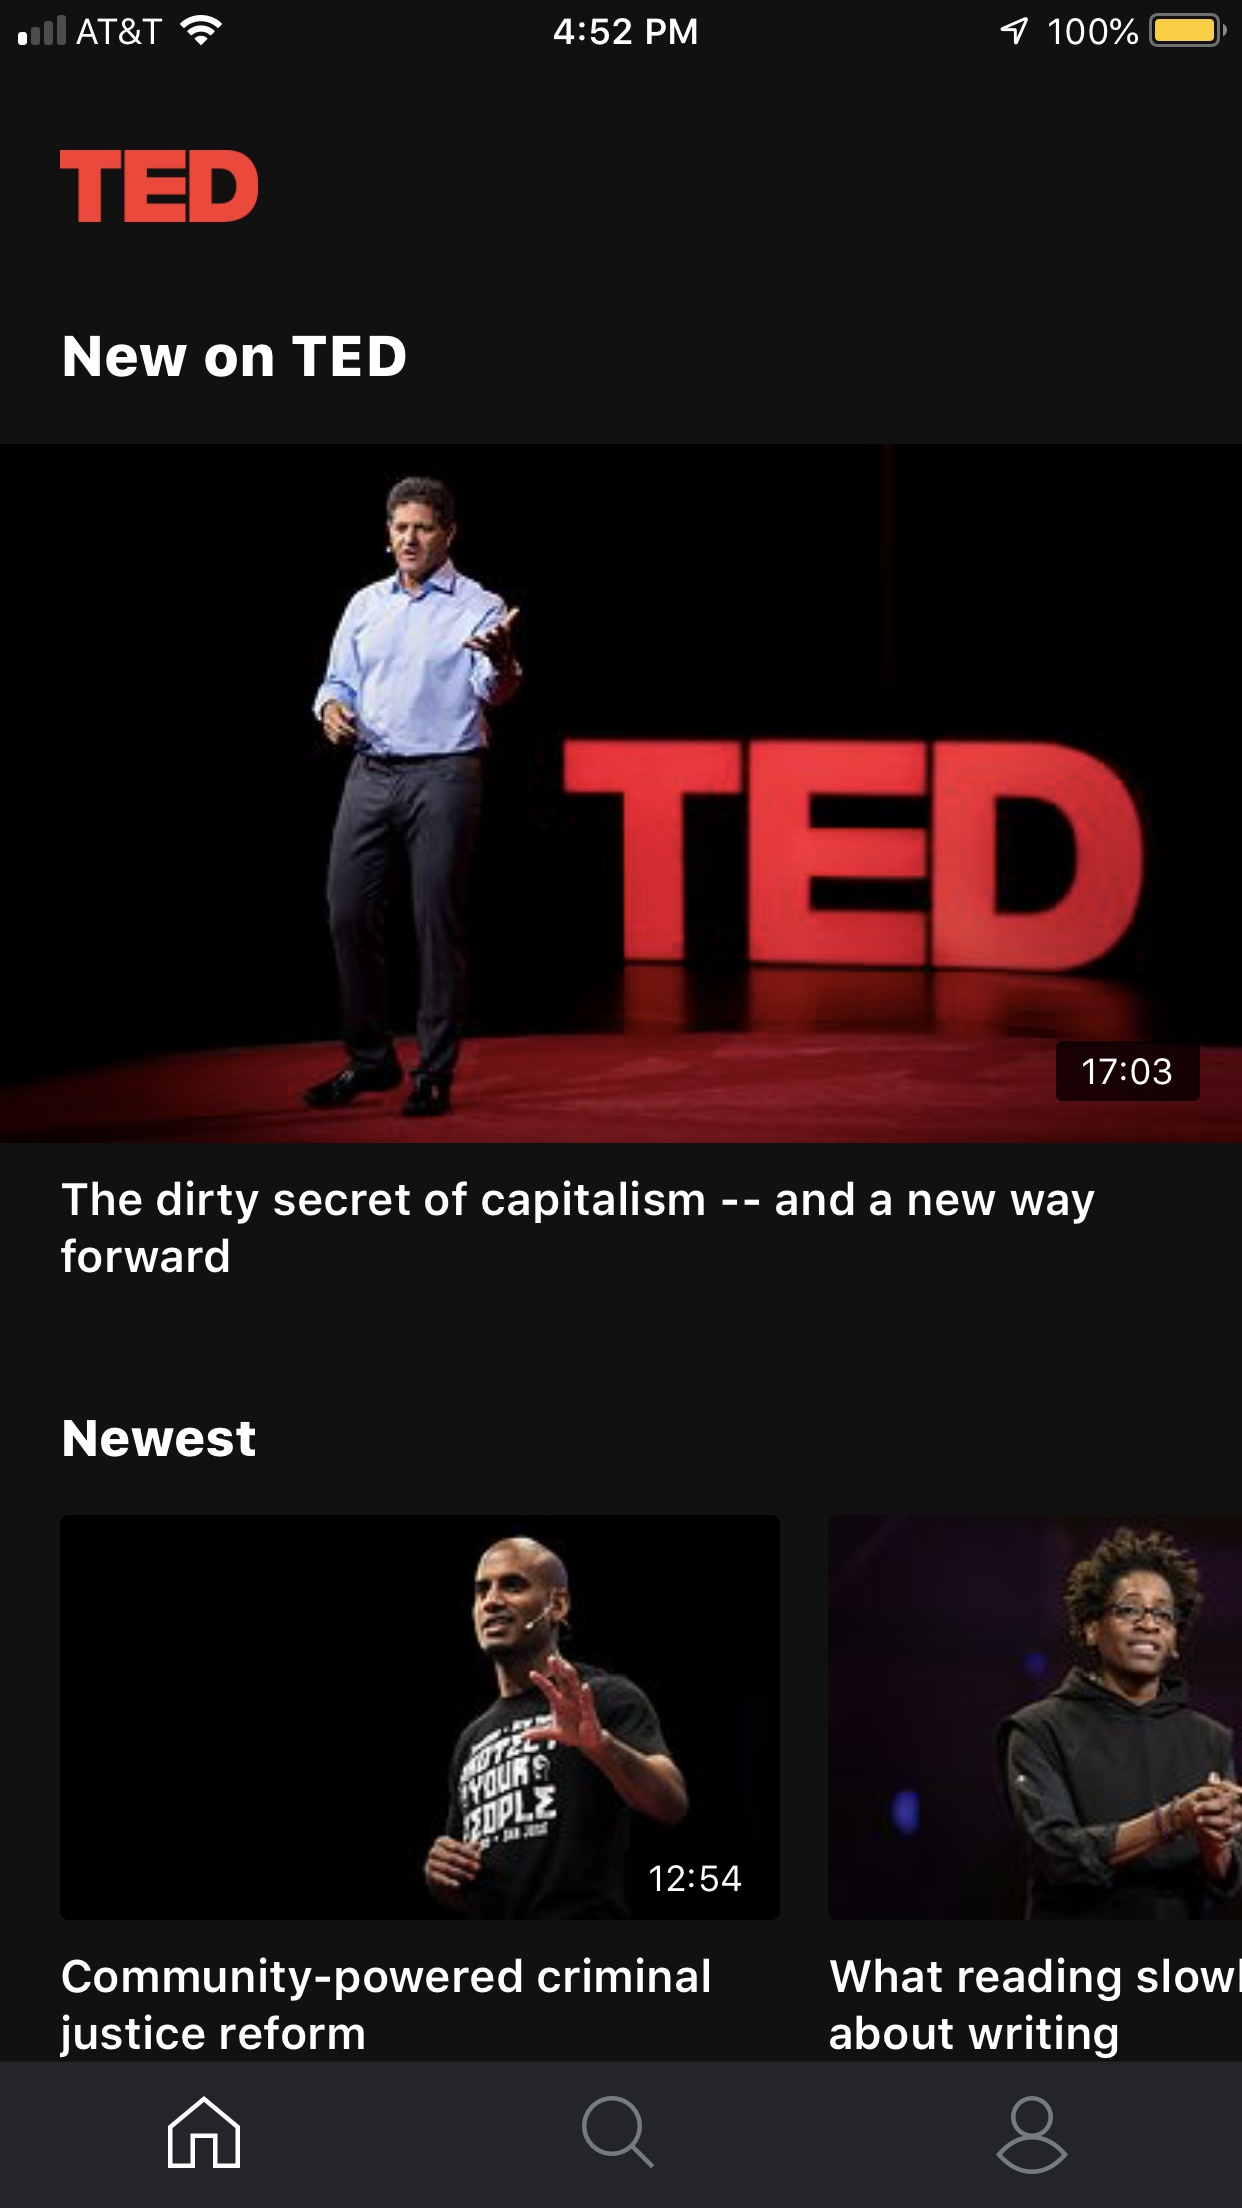Icon: (995, 2094, 1069, 2175), (167, 2094, 241, 2169), (581, 2094, 655, 2169)
Image: (2, 444, 1242, 1143), (61, 1513, 781, 1920), (828, 1513, 1242, 1920)
Text: (61, 1180, 1096, 1275), (61, 1956, 710, 2058), (830, 1956, 1242, 2053), (61, 149, 259, 224), (64, 337, 406, 379), (64, 1419, 256, 1459), (1081, 1057, 1174, 1086), (651, 1864, 742, 1893)
UpperTaskBar: (2, 2, 1242, 49)
